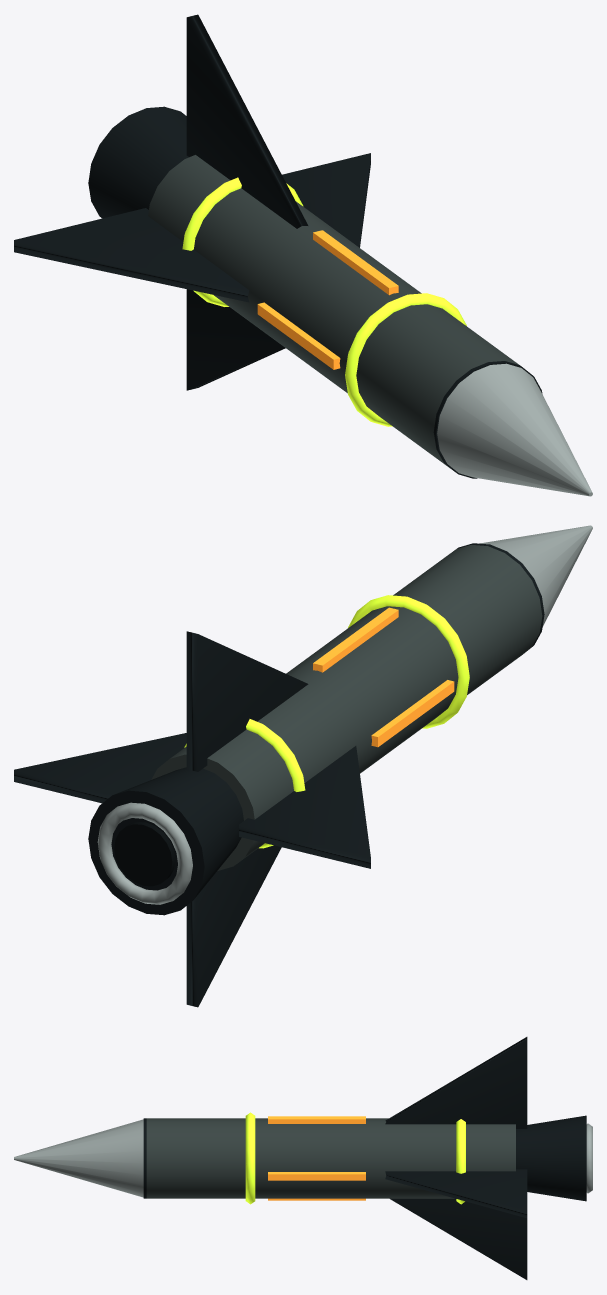
The model's file is micro-missile-lod1.glb.
The picture shows the model from 3 angles, top to bottom: view 1: azimuth 30°, elevation 25°; view 2: azimuth 150°, elevation 25°; view 3: azimuth 270°, elevation 25°; orthographic projection. The views are drawn at different scales.
Parts seen in each view (by area): view 1: fuselage__Cerakote_graphite_armor, control-fins__Recessed_carbon_mechanism, nose__Machined_titanium, nozzle__Recessed_carbon_mechanism, fuselage-bands__Velocity_chartreuse_identification, identification__Amber_safety_identification, nose__Recessed_carbon_mechanism; view 2: fuselage__Cerakote_graphite_armor, control-fins__Recessed_carbon_mechanism, nozzle__Recessed_carbon_mechanism, nozzle__Machined_titanium, nose__Machined_titanium, fuselage-bands__Velocity_chartreuse_identification, nozzle__Vibration_isolator, identification__Amber_safety_identification; view 3: fuselage__Cerakote_graphite_armor, control-fins__Recessed_carbon_mechanism, nose__Machined_titanium, nozzle__Recessed_carbon_mechanism, identification__Amber_safety_identification, fuselage-bands__Velocity_chartreuse_identification, nozzle__Machined_titanium.
Part boxes in pixels (x1,y1,x2,y2): fuselage__Cerakote_graphite_armor: (148, 155, 518, 471); control-fins__Recessed_carbon_mechanism: (14, 14, 370, 390); nose__Machined_titanium: (437, 363, 592, 496); nozzle__Recessed_carbon_mechanism: (88, 106, 188, 218); fuselage-bands__Velocity_chartreuse_identification: (182, 177, 466, 426); identification__Amber_safety_identification: (257, 230, 398, 369); nose__Recessed_carbon_mechanism: (433, 361, 542, 478); fuselage__Cerakote_graphite_armor: (151, 545, 542, 870); control-fins__Recessed_carbon_mechanism: (14, 631, 370, 1007); nozzle__Recessed_carbon_mechanism: (88, 767, 243, 915); nozzle__Machined_titanium: (97, 802, 192, 904); nose__Machined_titanium: (479, 525, 592, 626); fuselage-bands__Velocity_chartreuse_identification: (184, 595, 469, 848); nozzle__Vibration_isolator: (114, 822, 175, 886); identification__Amber_safety_identification: (313, 607, 454, 747); fuselage__Cerakote_graphite_armor: (146, 1118, 515, 1198); control-fins__Recessed_carbon_mechanism: (385, 1037, 527, 1279); nose__Machined_titanium: (14, 1119, 143, 1197); nozzle__Recessed_carbon_mechanism: (516, 1115, 586, 1201); identification__Amber_safety_identification: (268, 1116, 365, 1200); fuselage-bands__Velocity_chartreuse_identification: (245, 1112, 465, 1204); nozzle__Machined_titanium: (586, 1123, 592, 1193).
Bounding box in the file's own units: 0.92 × 0.92 × 2.01.
